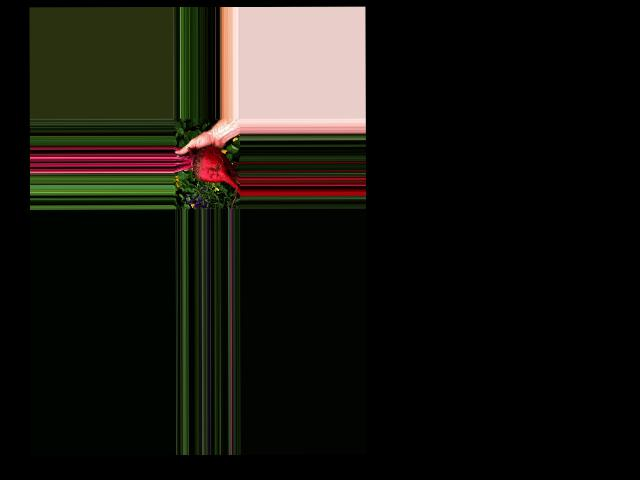beet: (174, 146, 240, 195)
